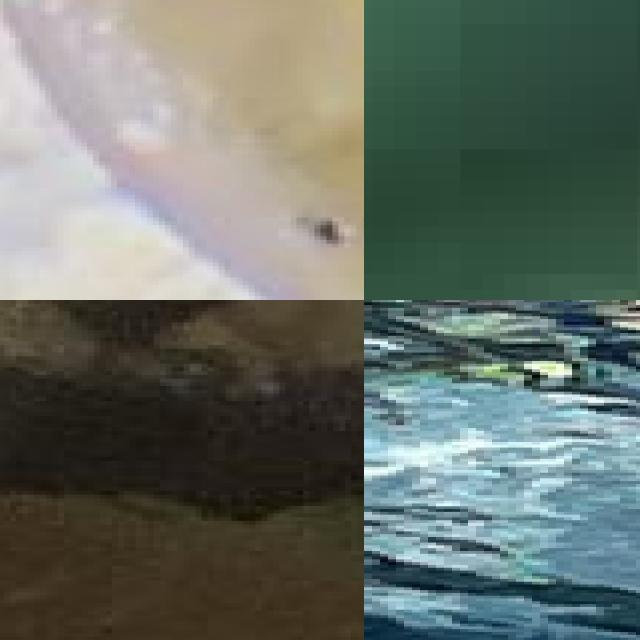fish: (0, 0, 364, 300), (0, 300, 364, 573)
